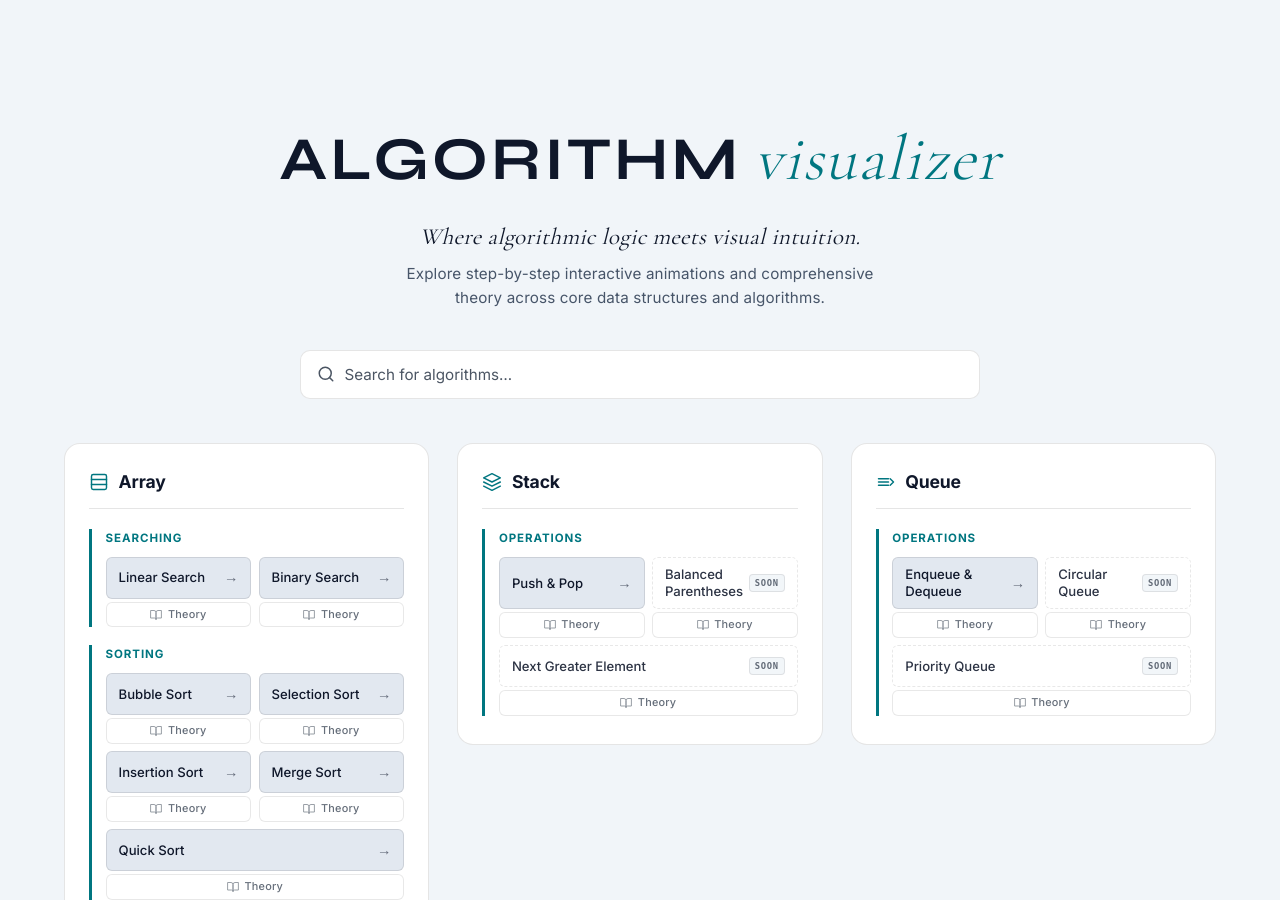
Scenario: Home Component & Algorithm Catalog › filters algorithms dynamically when typing in search input
Type "Dijkstra" into the search field with placeholder "Search for algorithms…" at (649, 374), box [335,351,963,398]
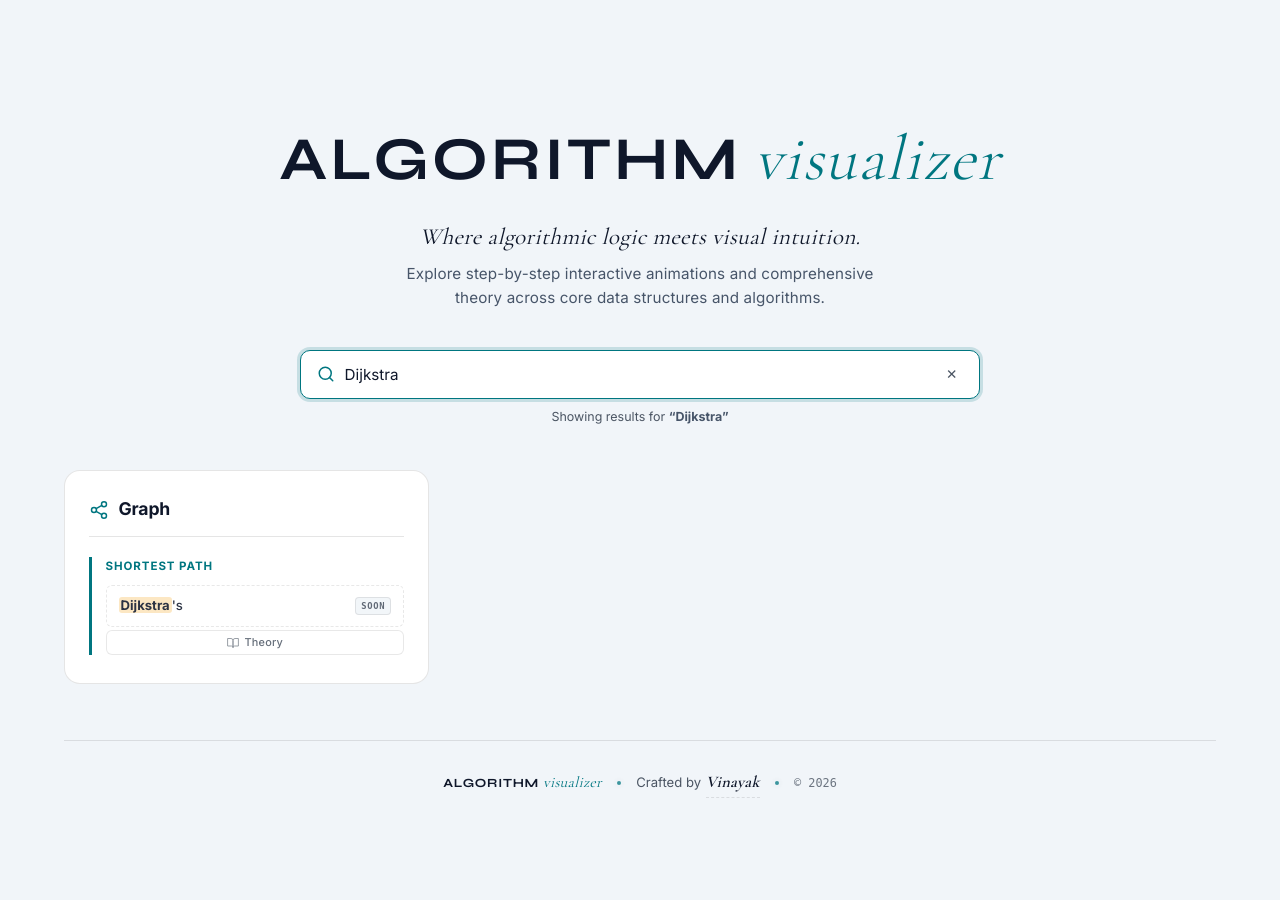
Result: the text "“Dijkstra”" is shown at [669,408,729,424]
Result: the link "Bubble Sort" is gone
